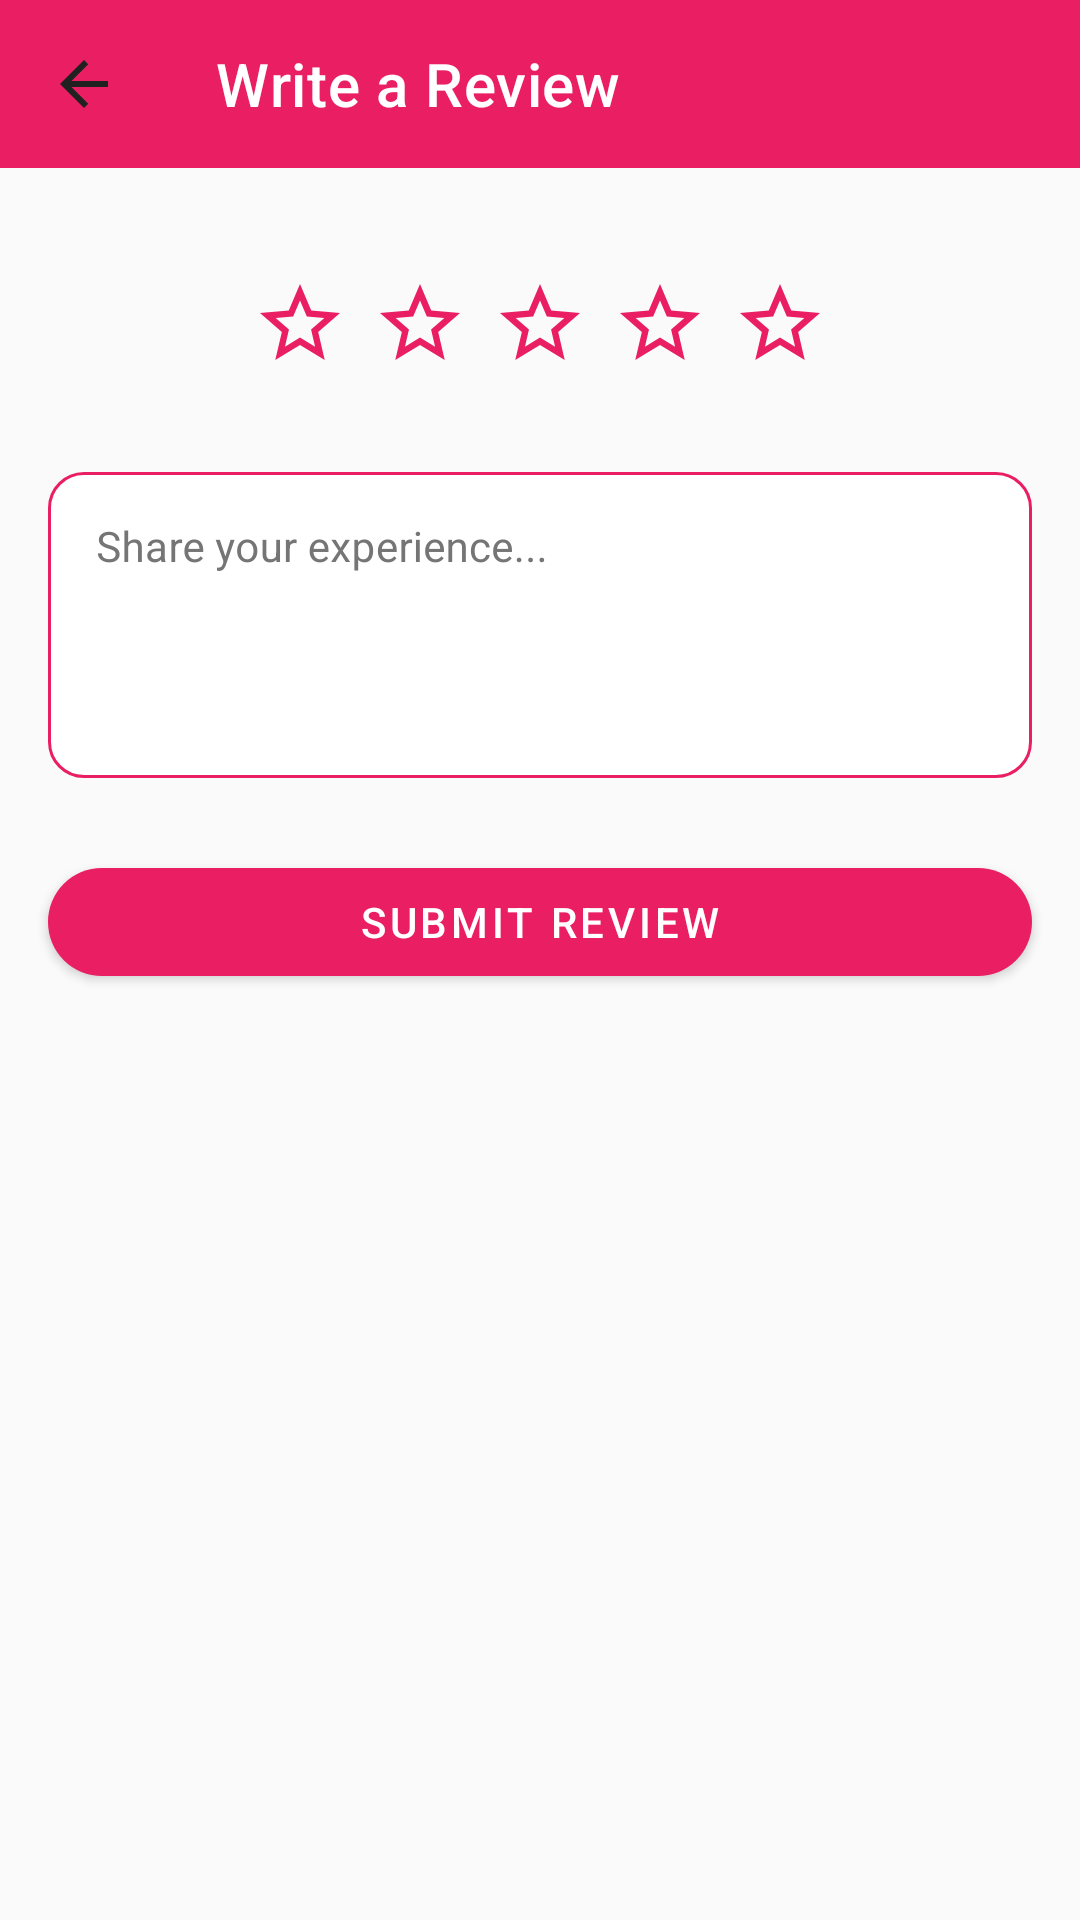

Point at icon controls on the screen. Image size 1080×1920, points as (x=x, y=y).
Star 1: (x=300, y=322)
Star 2: (x=420, y=322)
Star 3: (x=540, y=322)
Star 4: (x=660, y=322)
Star 5: (x=780, y=322)
